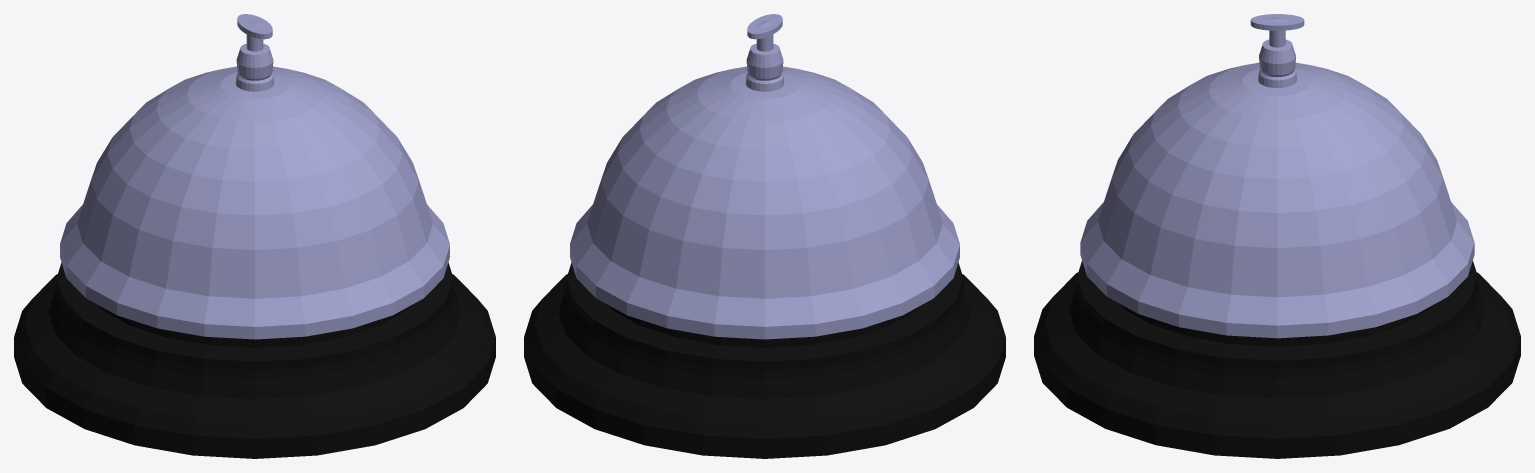
The model's file is Bell.fbx.
3 renders of one model, left to right at view 1: azimuth 30°, elevation 25°; view 2: azimuth 150°, elevation 25°; view 3: azimuth 270°, elevation 25°, orthographic.
Parts seen in each view (by area): view 1: Sphere; view 2: Sphere; view 3: Sphere.
Part boxes in pixels (x1=…): Sphere: x1=14, y1=14, x2=495, y2=458; Sphere: x1=524, y1=14, x2=1005, y2=458; Sphere: x1=1034, y1=14, x2=1520, y2=458.
Bounding box in the file's own units: 105 × 80.54 × 105.
